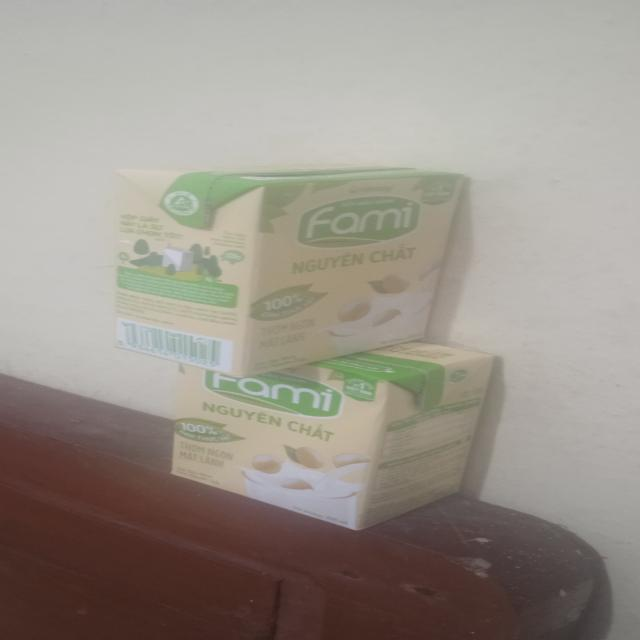Fami: (114, 163, 464, 379), (166, 342, 493, 533)
